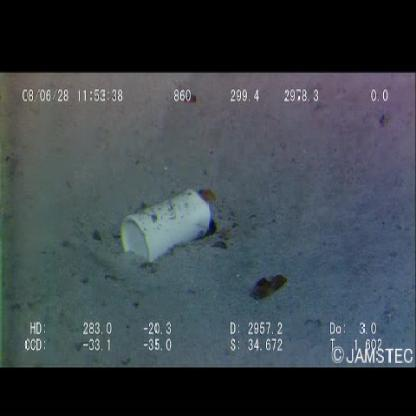Rác: (120, 191, 214, 263)
